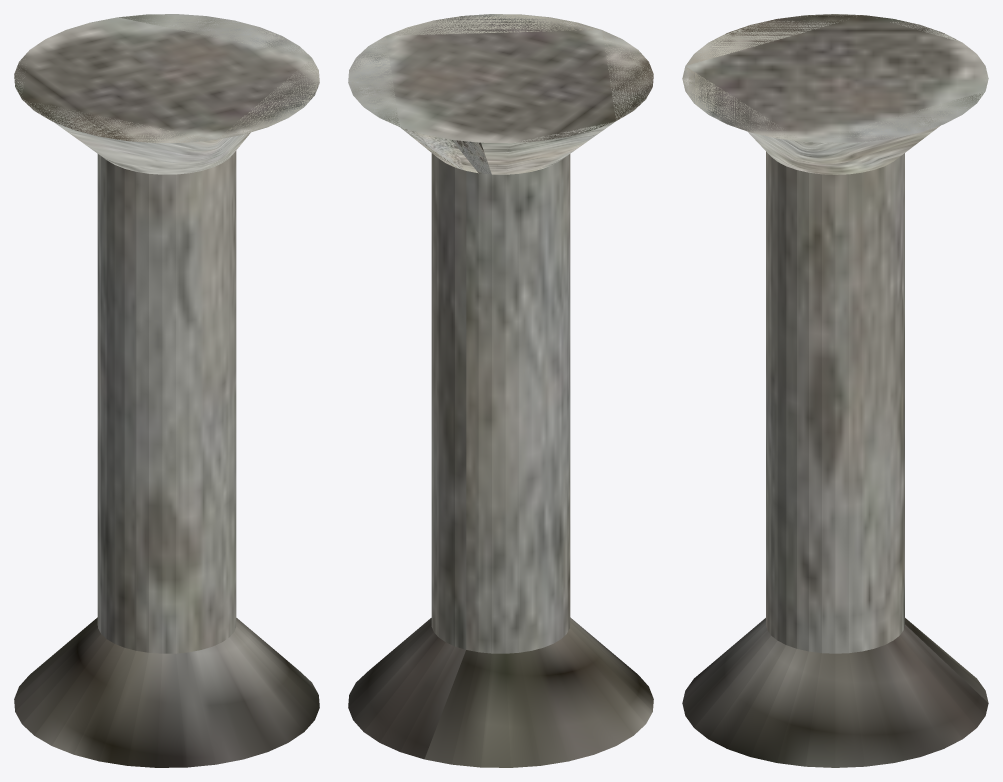
Rendered from pillar.glb.
The picture shows the model from 3 angles, left to right: view 1: azimuth 30°, elevation 25°; view 2: azimuth 150°, elevation 25°; view 3: azimuth 270°, elevation 25°; orthographic projection.
Parts seen in each view (by area): view 1: Cylinder; view 2: Cylinder; view 3: Cylinder.
Part boxes in pixels (x1,y1,x2,y2): Cylinder: [14, 14, 319, 767]; Cylinder: [348, 14, 653, 767]; Cylinder: [682, 14, 988, 767].
Size of the model in its own units: 2 by 4.5 by 2.
1 material, 1 textured.
